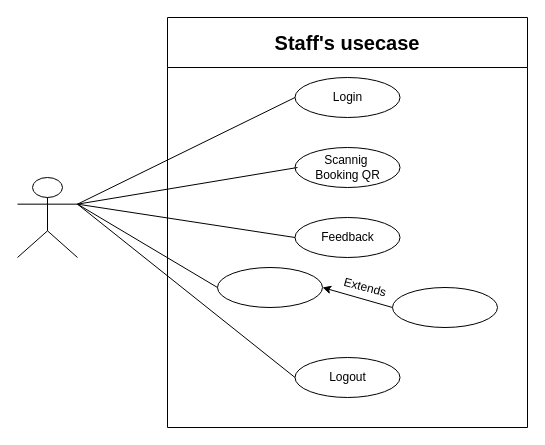
The diagram is 545 pixels wide and 445 high, and some of its shapes have lost their labels. The shapes that lost their labels are listed below. From the top down, each one's centre as x and y in pixels, then its label:
At (x=47, y=217): "Staff".
At (x=269, y=287): "Edit Profile".
At (x=445, y=307): "Change to user account".
